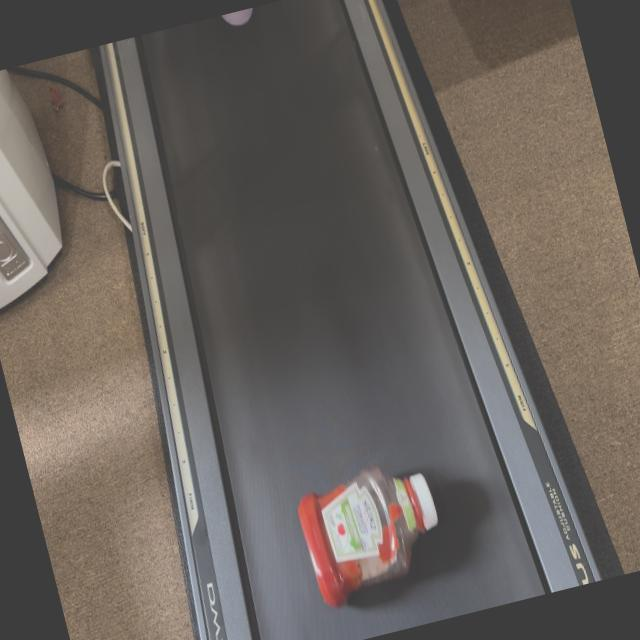Trash: (288, 449, 457, 612)
